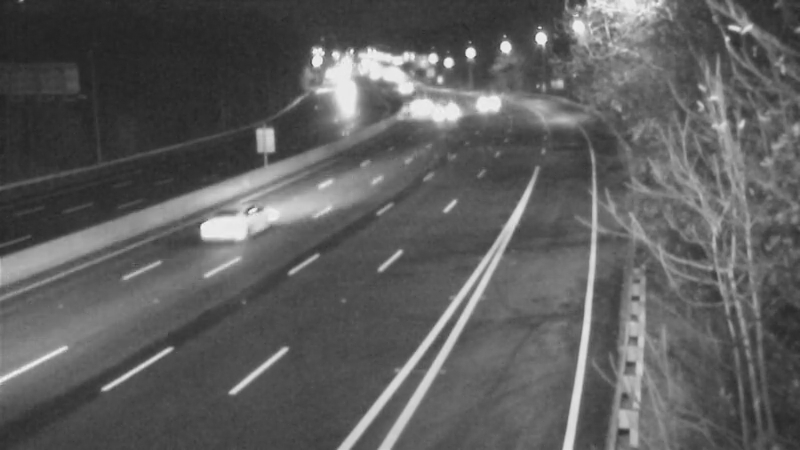vehicle: (186, 186, 266, 266), (464, 75, 514, 125), (391, 81, 441, 131), (420, 90, 470, 140)
